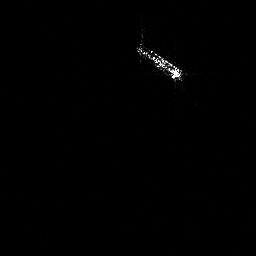ship: (132, 36, 189, 86)
